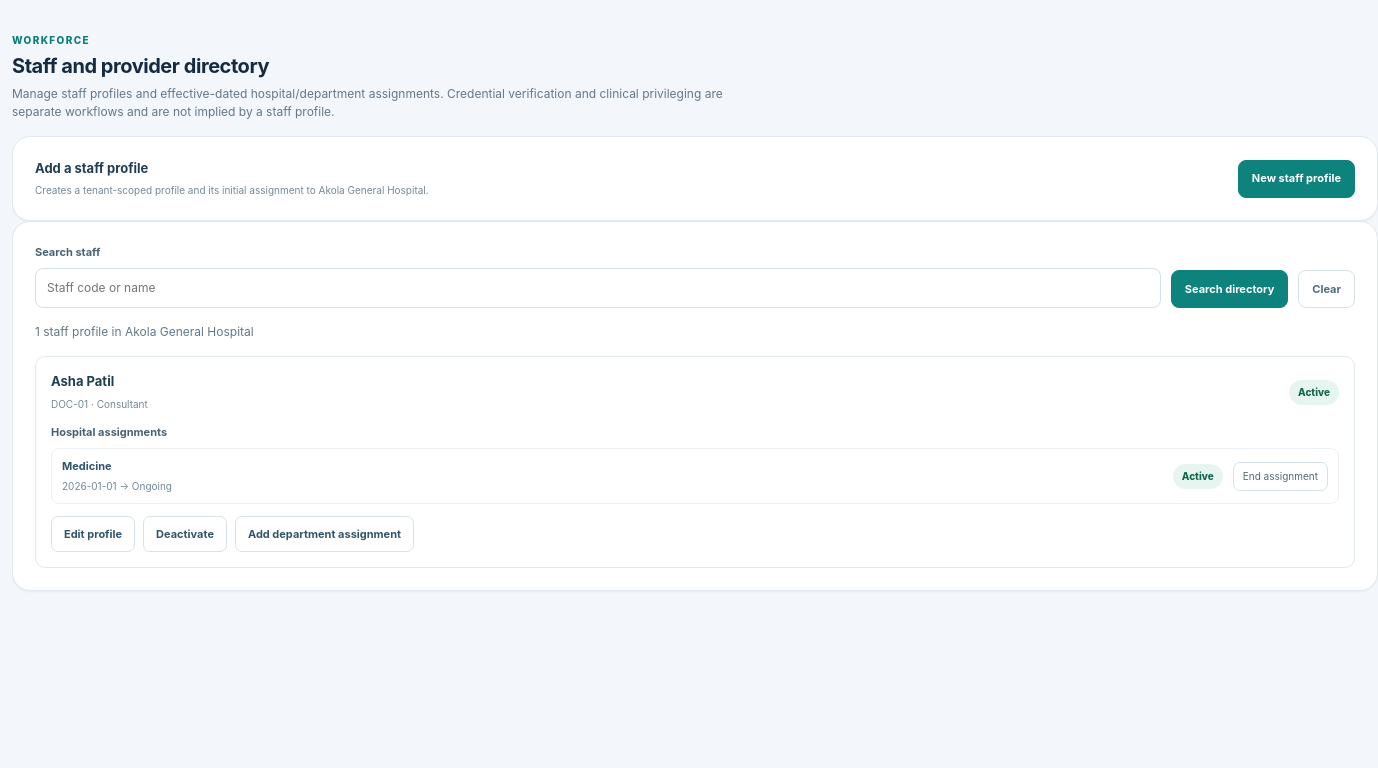
staff management workspace › ends an active assignment using an explicit effective date
Click the button "End assignment" at (1280, 476), box [1233,462,1328,491]
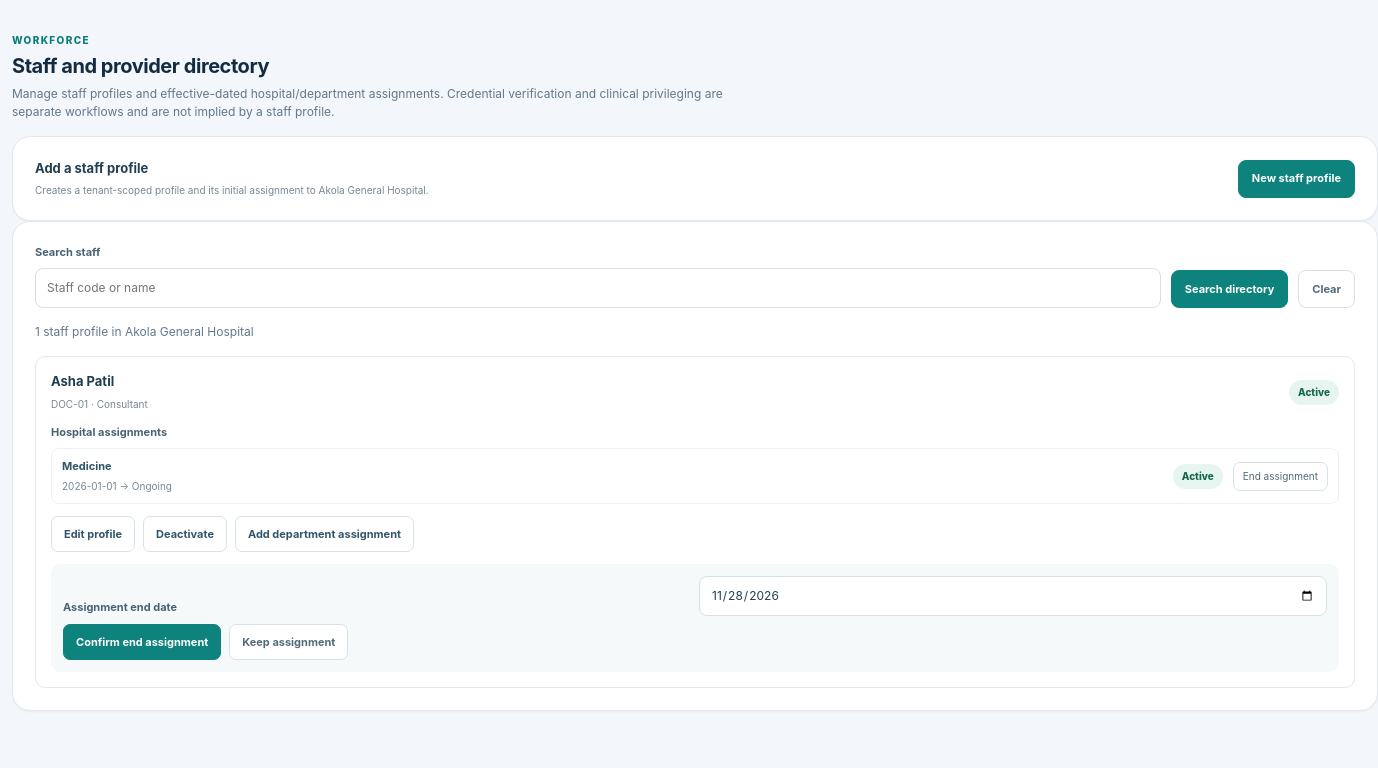
Type "2026-08-31" into the date field labelled "Assignment end date" at (1013, 596), box [699,576,1327,616]
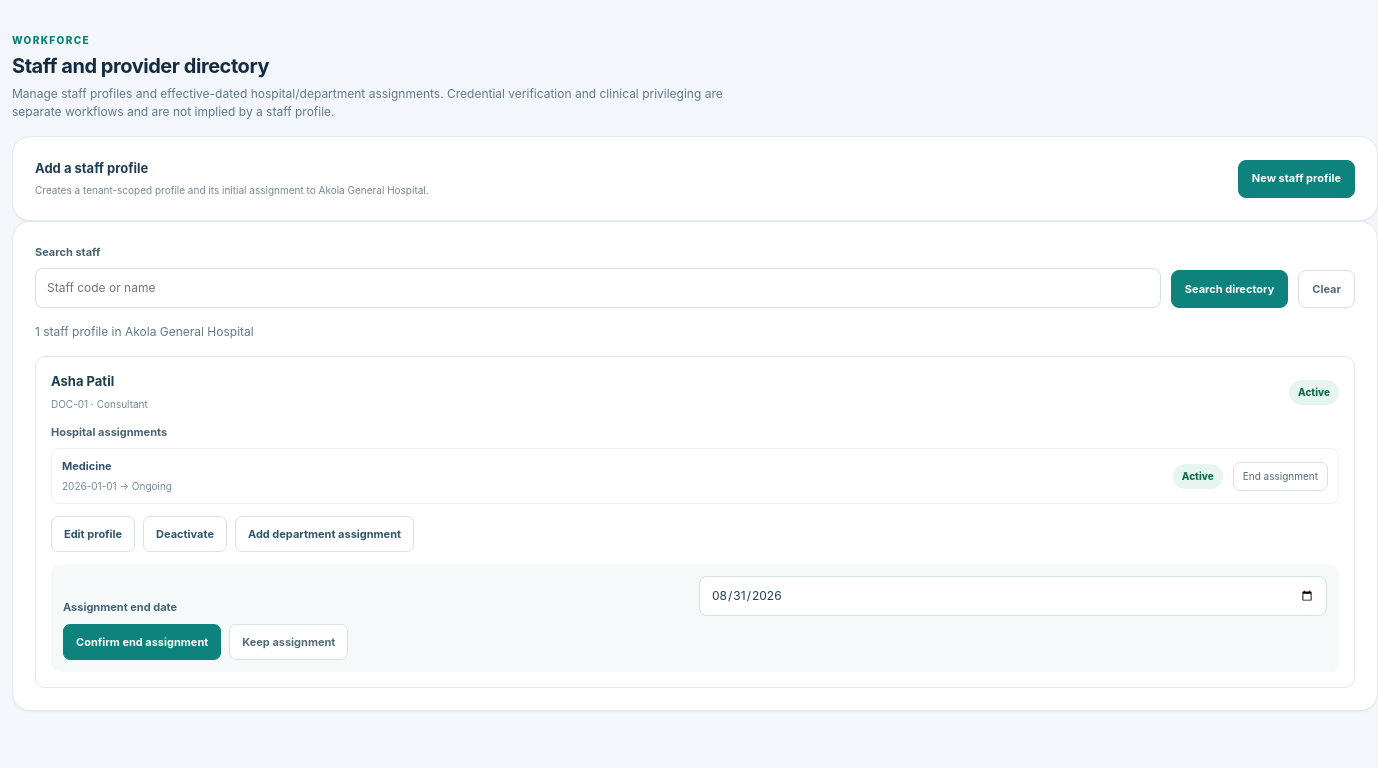
Click the button "Confirm end assignment" at (142, 642), box [63,624,221,660]
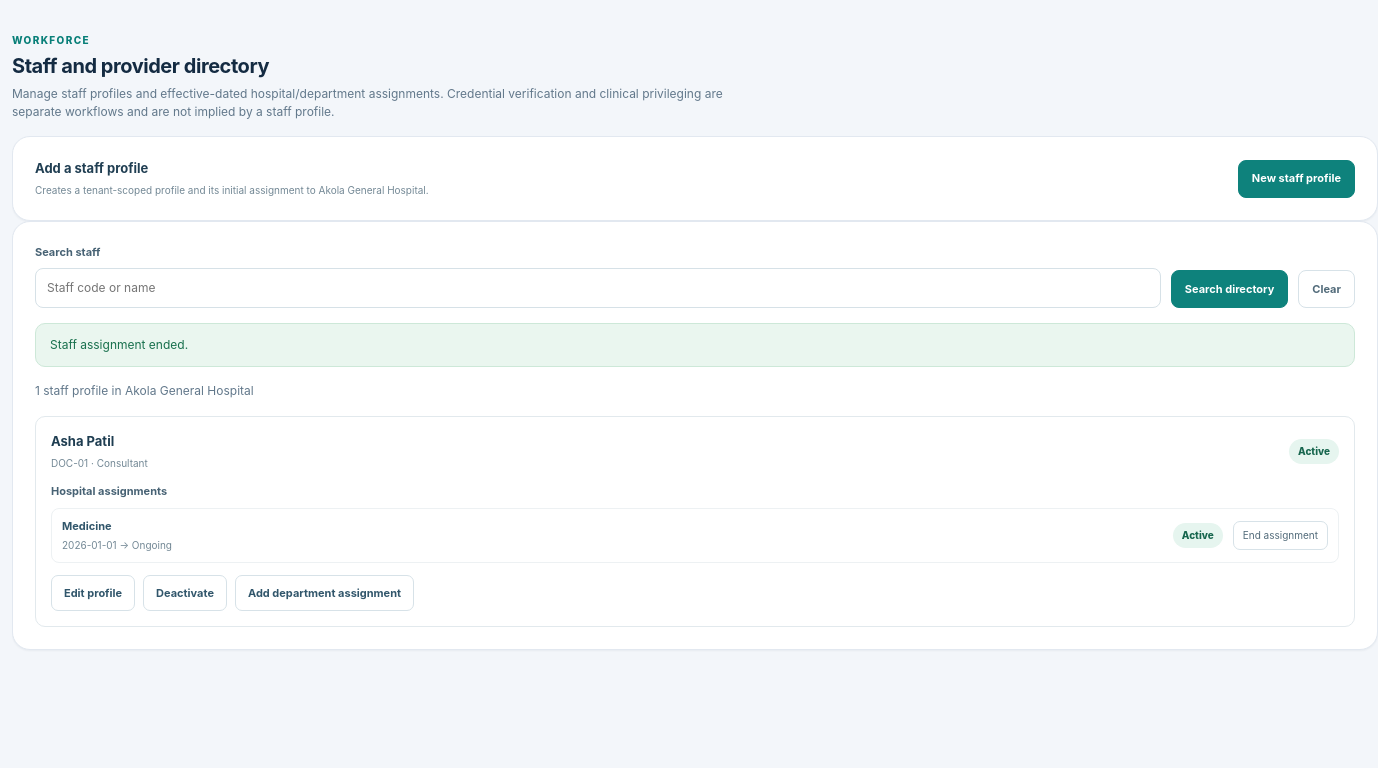
Result: the text "Staff assignment ended." is shown at [35,323,1355,367]
